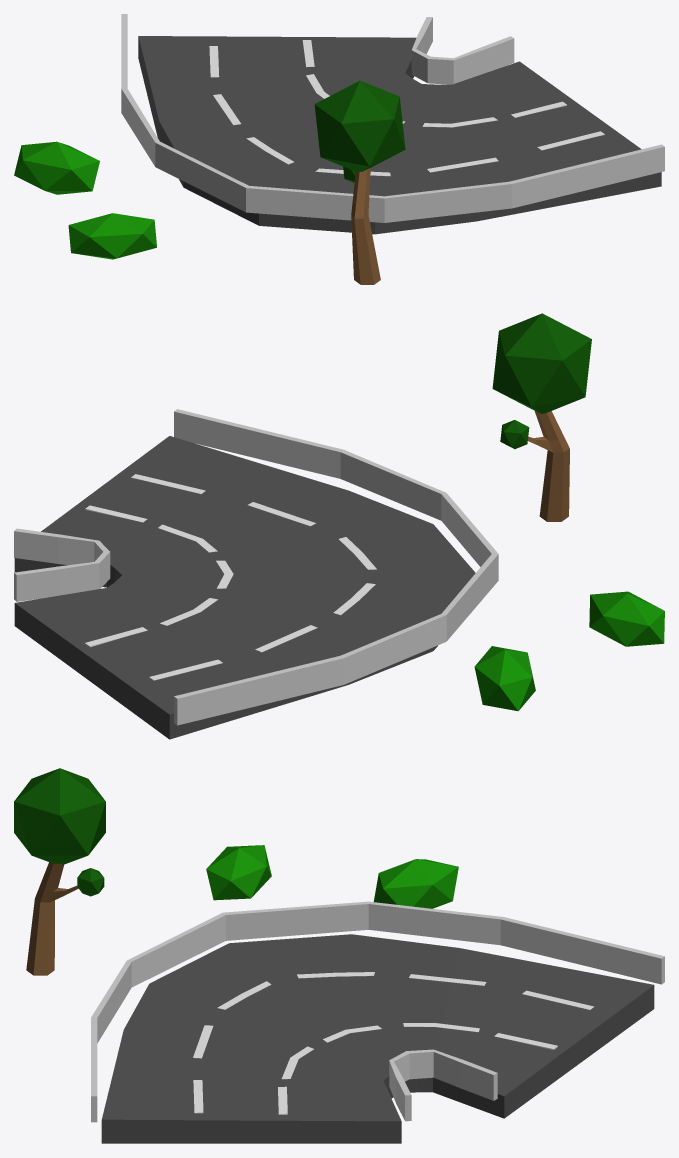
The model's file is highway_01_5.fbx.
The picture shows the model from 3 angles, top to bottom: view 1: azimuth 30°, elevation 25°; view 2: azimuth 150°, elevation 25°; view 3: azimuth 270°, elevation 25°; orthographic projection. The views are drawn at different scales.
Parts seen in each view (by area): view 1: autobahn01.003, autobahn01.001, leitPlankOutside.003, leafsBig, bush, leitPlankInside.003, bushAlso, treeStomp; view 2: autobahn01.003, autobahn01.001, leitPlankOutside.003, leafsBig, leitPlankInside.003, bushAlso, bush, treeStomp, leafesSmall; view 3: autobahn01.003, autobahn01.001, leitPlankOutside.003, leafsBig, leitPlankInside.003, bush, bushAlso, treeStomp, leafesSmall.
Boxes of the visible parts, bbox=[...] form: autobahn01.003: bbox=[139, 36, 661, 234]; autobahn01.001: bbox=[138, 36, 409, 229]; leitPlankOutside.003: bbox=[121, 14, 664, 222]; leafsBig: bbox=[314, 80, 405, 171]; bush: bbox=[14, 141, 99, 194]; leitPlankInside.003: bbox=[411, 17, 514, 84]; bushAlso: bbox=[68, 213, 156, 259]; treeStomp: bbox=[351, 168, 380, 284]; autobahn01.003: bbox=[15, 436, 452, 739]; autobahn01.001: bbox=[14, 444, 475, 739]; leitPlankOutside.003: bbox=[174, 409, 498, 725]; leafsBig: bbox=[492, 313, 591, 413]; leitPlankInside.003: bbox=[14, 528, 110, 601]; bushAlso: bbox=[589, 591, 664, 646]; bush: bbox=[474, 646, 535, 711]; treeStomp: bbox=[528, 411, 569, 521]; leafesSmall: bbox=[500, 420, 529, 449]; autobahn01.003: bbox=[102, 934, 654, 1143]; autobahn01.001: bbox=[101, 934, 605, 1143]; leitPlankOutside.003: bbox=[91, 901, 664, 1122]; leafsBig: bbox=[14, 768, 105, 864]; leitPlankInside.003: bbox=[389, 1049, 497, 1121]; bush: bbox=[373, 859, 458, 908]; bushAlso: bbox=[206, 845, 271, 900]; treeStomp: bbox=[26, 862, 78, 975]; leafesSmall: bbox=[77, 868, 104, 896].
Size of the model in its own units: 82.11 by 30.8 by 84.01.
